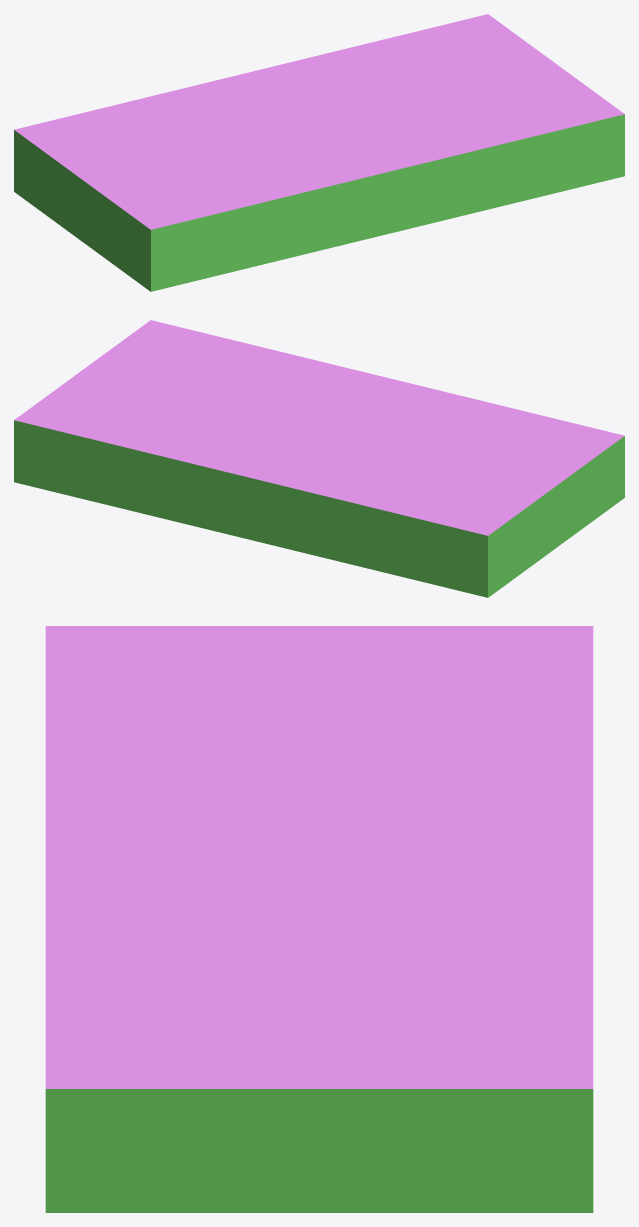
The model's file is Bridge.fbx.
The picture shows the model from 3 angles, top to bottom: view 1: azimuth 30°, elevation 25°; view 2: azimuth 150°, elevation 25°; view 3: azimuth 270°, elevation 25°; orthographic projection. The views are drawn at different scales.
Visible parts, largest first — view 1: Bridge; view 2: Bridge; view 3: Bridge.
Part boxes in pixels (x1,y1,x2,y2): Bridge: (14, 14, 624, 291); Bridge: (14, 320, 624, 597); Bridge: (45, 626, 593, 1212).
Size of the model in its own units: 2 by 0.25 by 1.
